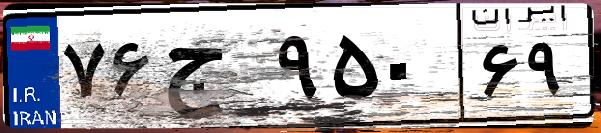0: (385, 28, 445, 110)
5: (330, 28, 385, 110)
6: (475, 38, 525, 113), (110, 28, 158, 98)
7: (57, 26, 110, 100)
9: (270, 28, 330, 110), (525, 38, 570, 115)
ج: (158, 20, 270, 120)
